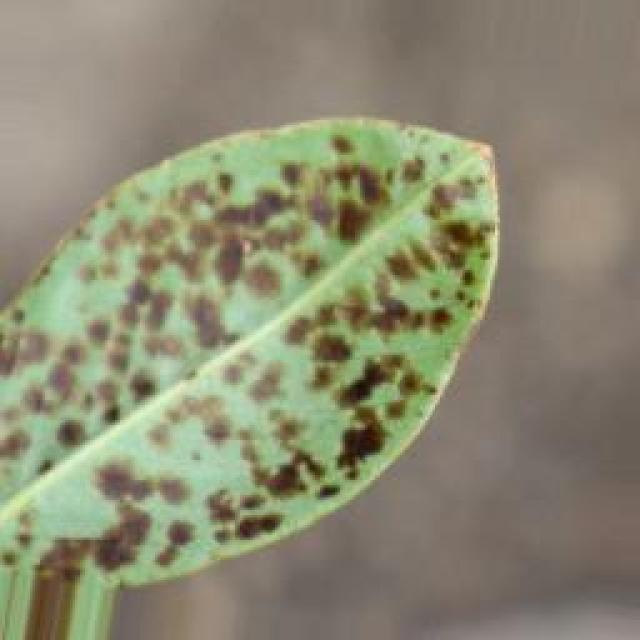Whitefly: (6, 99, 512, 609)
